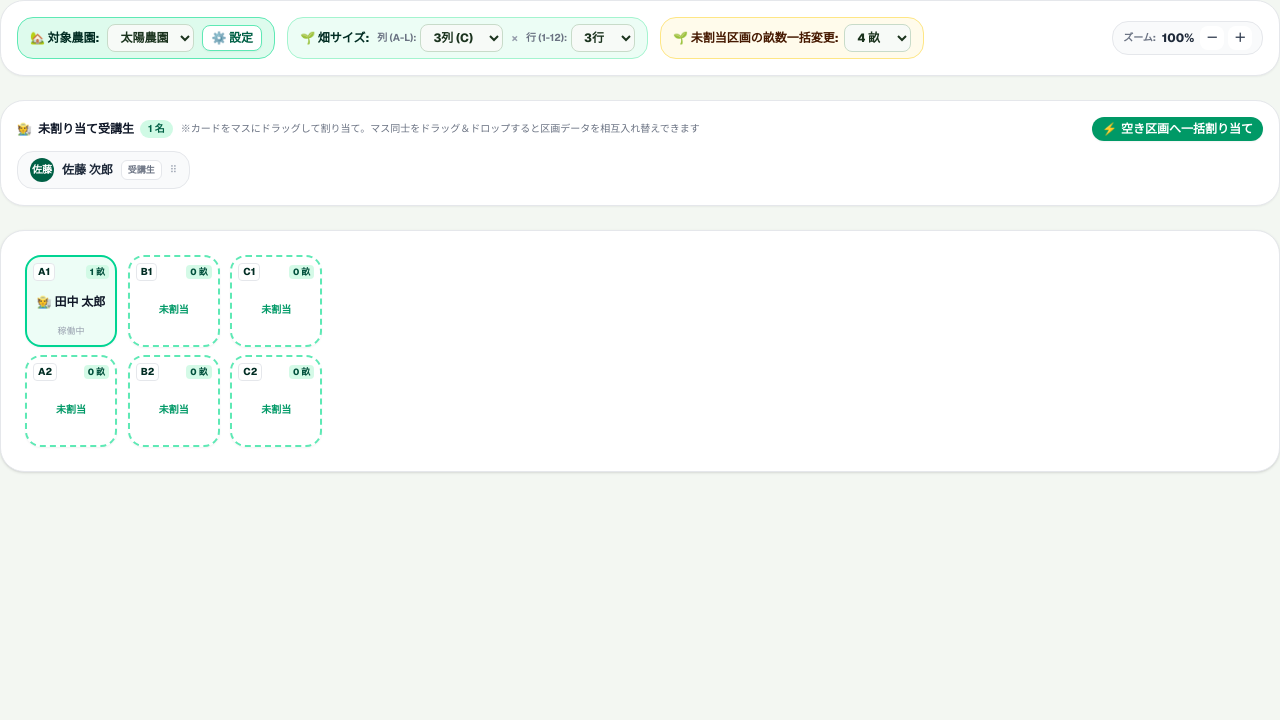
Test: B2a: PlotDetailModal 特性テスト (TeacherFarmCanvasView 経由) › 1. 区画クリックで詳細モーダルが開き、区画情報・受講生名・畝情報が表示されること
Check: the text "A1" is shown, box [38, 265, 50, 278]
Click the text "A1". click: (71, 301)
box: [25, 255, 117, 347]
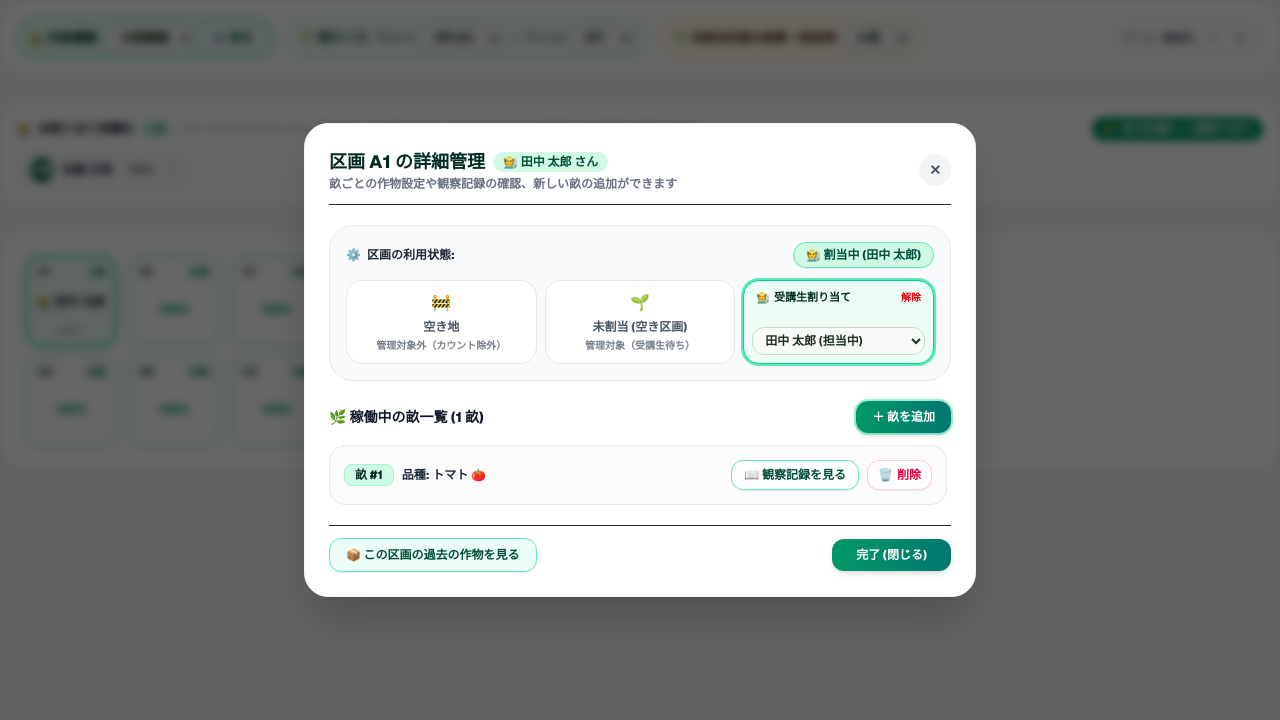
Check: the text "区画 A1 の詳細管理" is shown, box [329, 148, 485, 176]
Check: the text "🧑‍🌾 田中 太郎 さん" is shown, box [493, 152, 608, 172]
Check: the text "畝 #1" is shown, box [344, 464, 394, 486]
